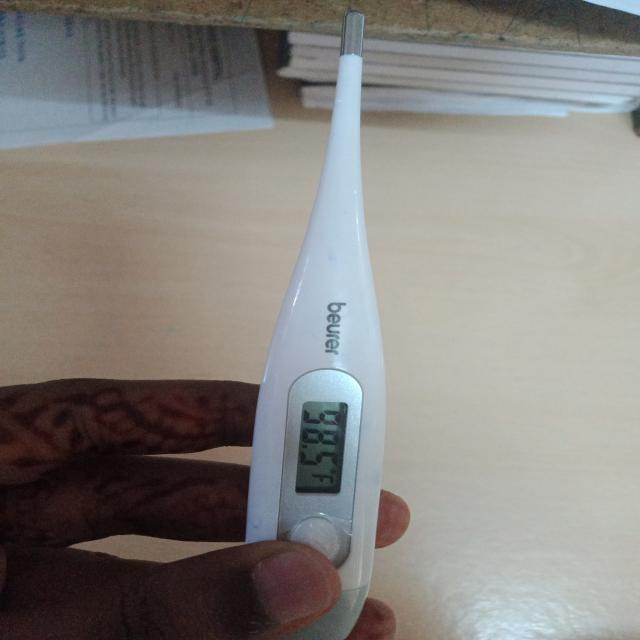display: (297, 400, 350, 493)
frame: (302, 408, 342, 470)
gauge: (247, 4, 384, 640)
